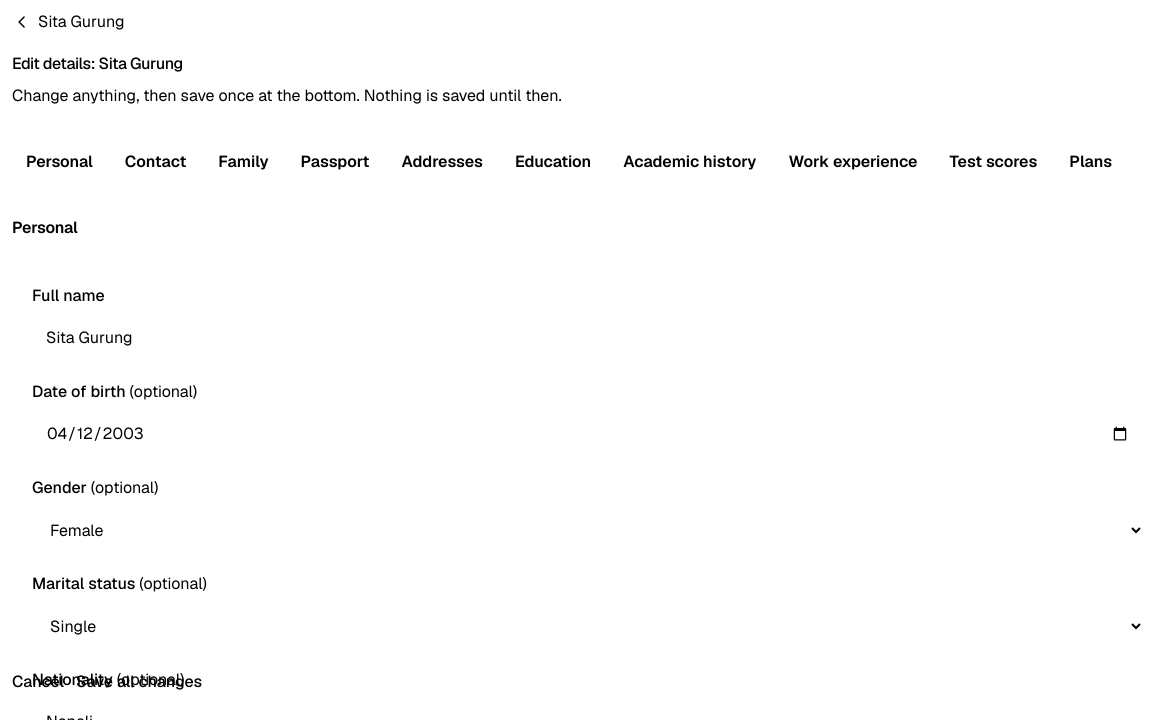
Scenario: Edit details › shows every section with what is stored, and a menu of the sections
The image size is (1164, 720).
Expected: the field labelled "Full name" holds "Sita Gurung", [32,316,1144,360]
Click the button "Family": [243, 162] box [204,140,282,184]
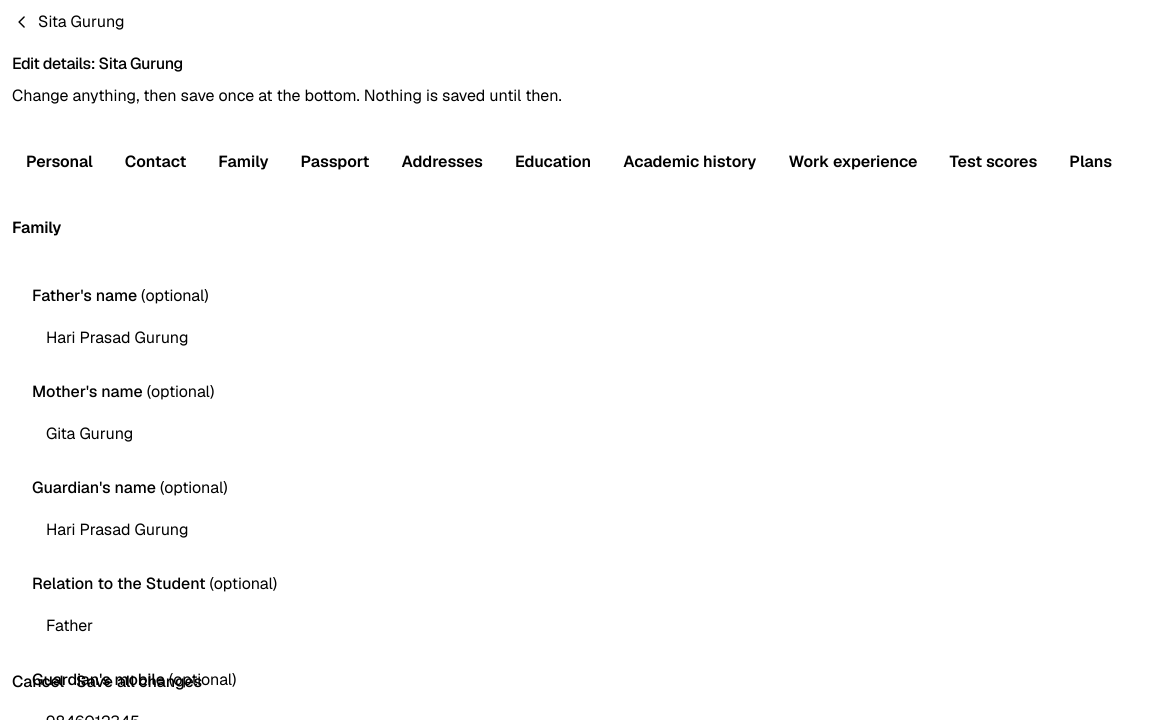
Expected: the field labelled "Father's name (optional)" holds "Hari Prasad Gurung", [32,316,1144,360]
Click the button "Academic history": [690, 162] box [609,140,770,184]
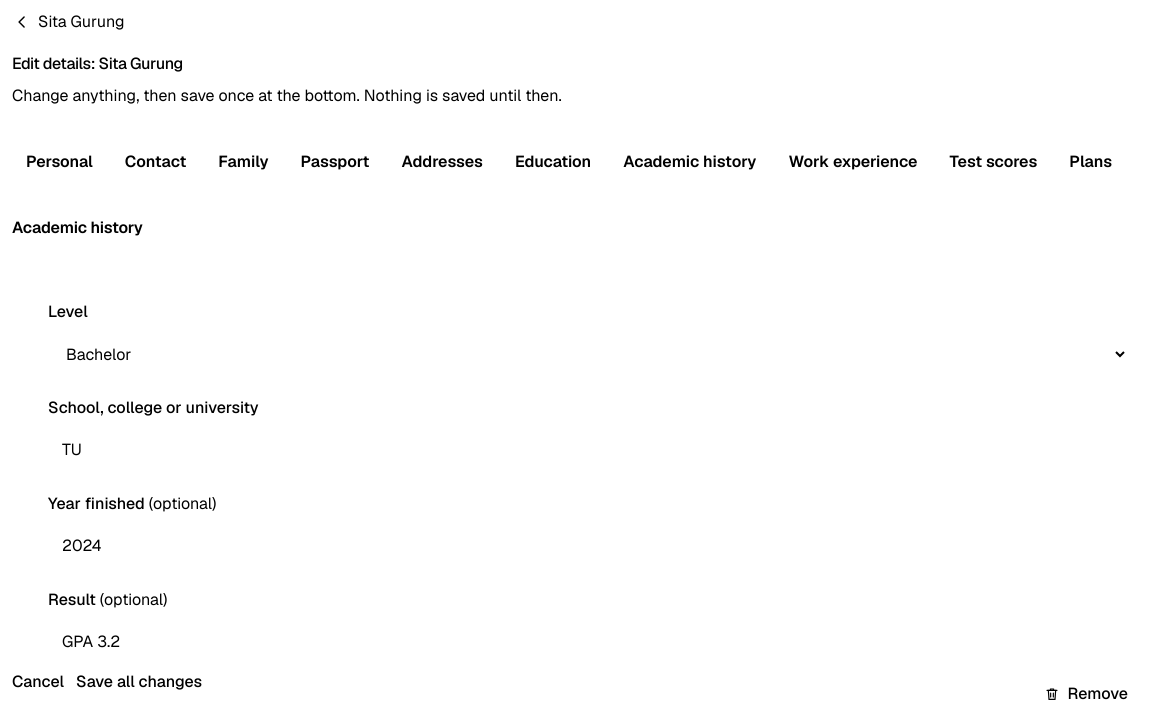
Expected: the field labelled "School, college or university" holds "TU", [48,428,1128,472]
Click the button "Work experience": [853, 162] box [774,140,932,184]
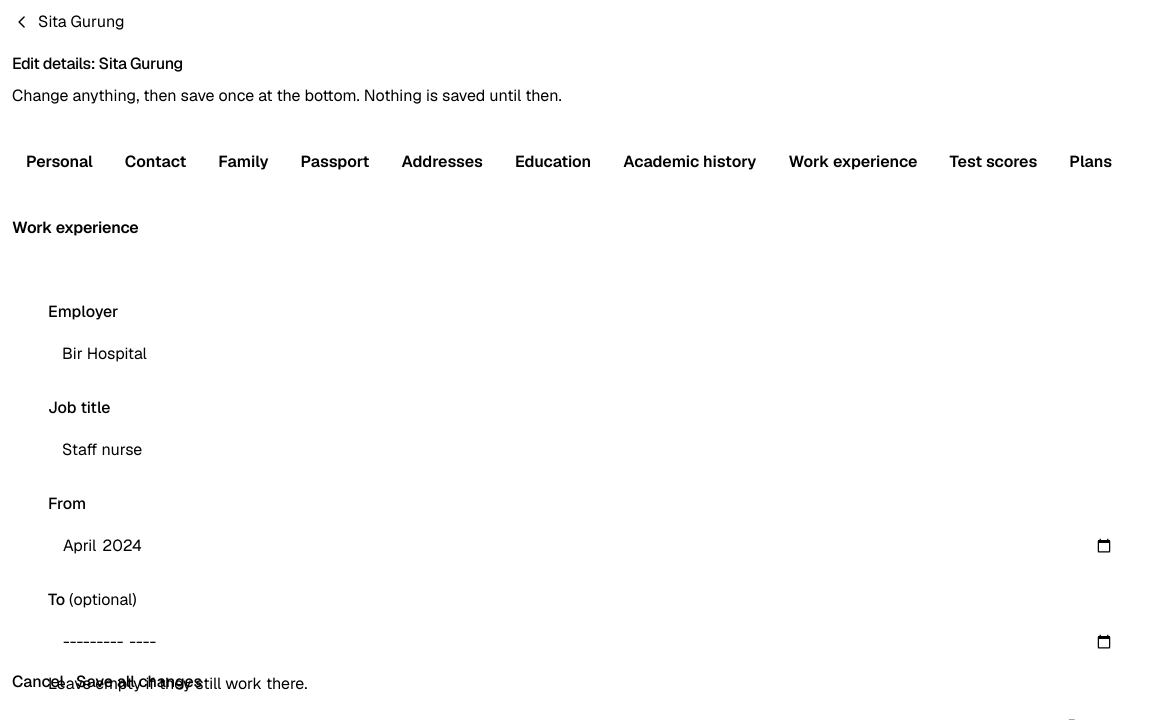
Expected: the field labelled "Employer" holds "Bir Hospital", [48,332,1128,376]
Click the button "Test scores": [993, 162] box [936,140,1051,184]
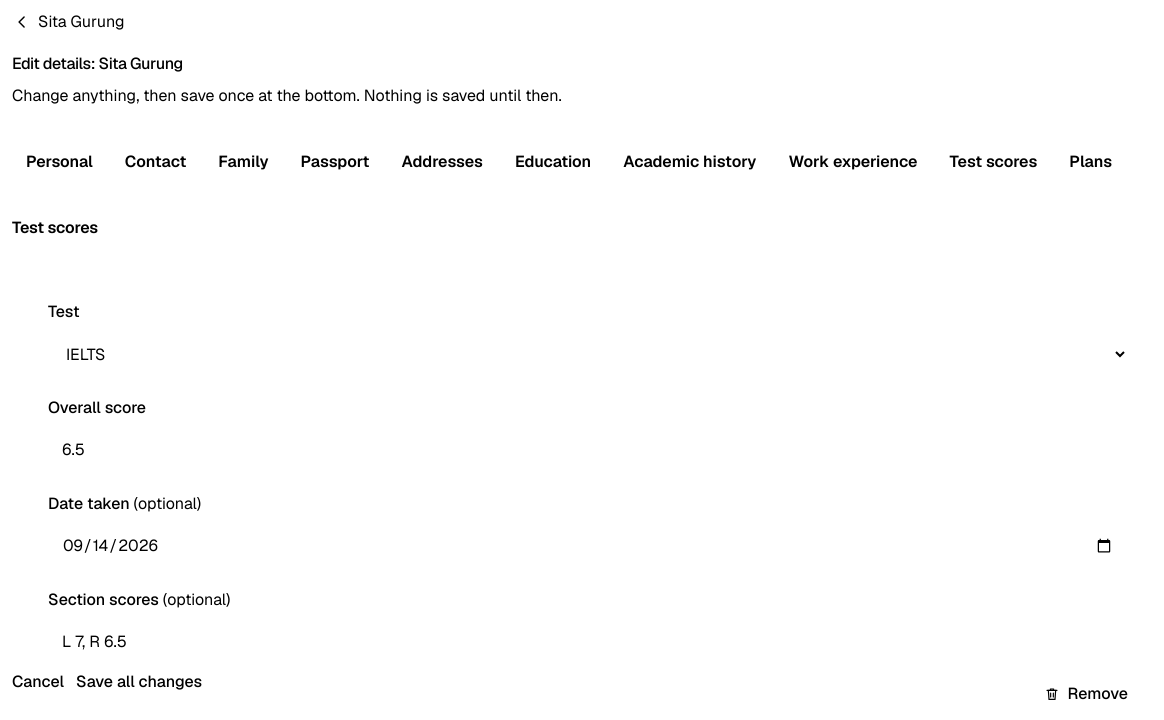
Expected: the field labelled "Overall score" holds "6.5", [48,428,1128,472]
